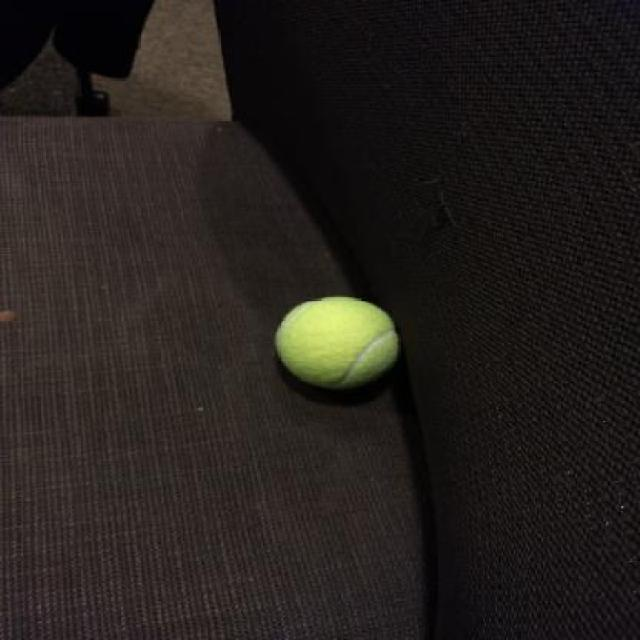Tennis_Ball: (274, 297, 404, 397)
